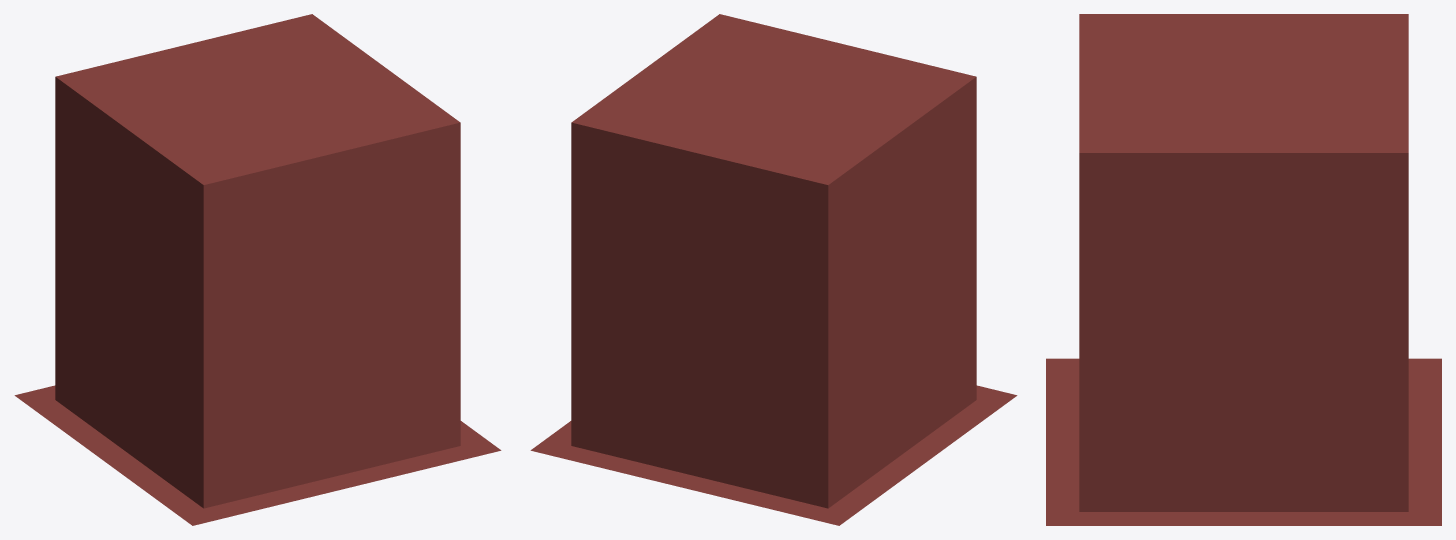
File: 2x2 Building.fbx
The picture shows the model from 3 angles, left to right: view 1: azimuth 30°, elevation 25°; view 2: azimuth 150°, elevation 25°; view 3: azimuth 270°, elevation 25°; orthographic projection. The views are drawn at different scales.
Parts seen in each view (by area): view 1: 2x2 Building; view 2: 2x2 Building; view 3: 2x2 Building.
Part boxes in pixels (x1,y1,x2,y2): 2x2 Building: (14,14,501,525); 2x2 Building: (530,14,1017,525); 2x2 Building: (1046,14,1441,525).
Bounding box in the file's own units: 2 × 2 × 2.
